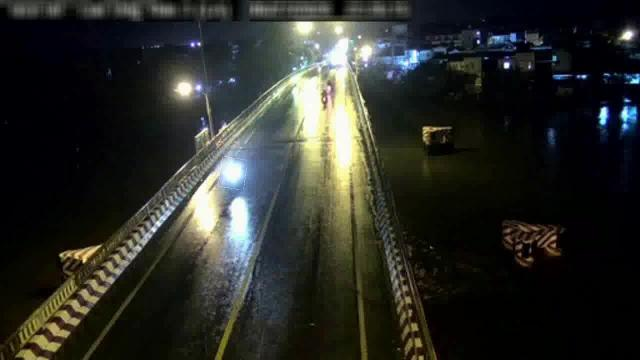Bike: (220, 158, 247, 190), (320, 88, 330, 105)
